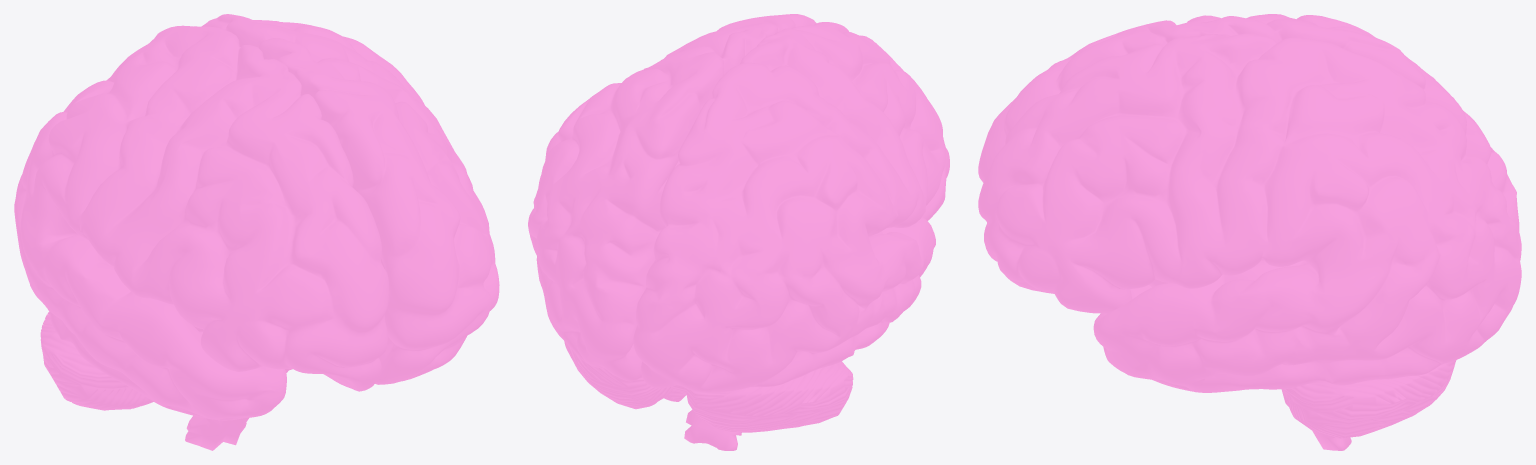
The model's file is brain3.gltf.
3 views of the same model, side by side, from view 1: azimuth 30°, elevation 25°; view 2: azimuth 150°, elevation 25°; view 3: azimuth 270°, elevation 25° (orthographic). The views are drawn at different scales.
Visible parts, largest first — view 1: Brain_Part_06, Brain_Part_04, Brain_Part_02, Brain_Part_05; view 2: Brain_Part_06, Brain_Part_04, Brain_Part_02, Brain_Part_05; view 3: Brain_Part_04, Brain_Part_06, Brain_Part_02, Brain_Part_05.
Boxes of the visible parts, x1,y1,x2,y2 form: Brain_Part_06: [14, 25, 388, 420]; Brain_Part_04: [201, 14, 499, 384]; Brain_Part_02: [40, 312, 292, 410]; Brain_Part_05: [185, 326, 289, 450]; Brain_Part_06: [633, 22, 949, 392]; Brain_Part_04: [528, 14, 816, 381]; Brain_Part_02: [564, 341, 853, 432]; Brain_Part_05: [684, 409, 741, 450]; Brain_Part_04: [978, 33, 1521, 392]; Brain_Part_06: [978, 14, 1521, 260]; Brain_Part_02: [1283, 360, 1456, 438]; Brain_Part_05: [1149, 259, 1351, 450].
Size of the model in its own units: 3.8 by 4.02 by 4.73.
